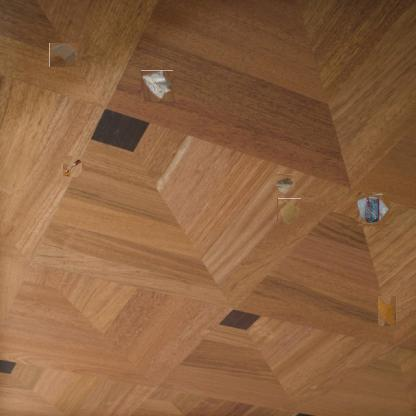dirty: (357, 193, 389, 225), (142, 70, 173, 102), (49, 43, 76, 67), (274, 174, 296, 196), (62, 156, 82, 178)
liquid: (277, 198, 301, 225), (378, 296, 396, 326)
